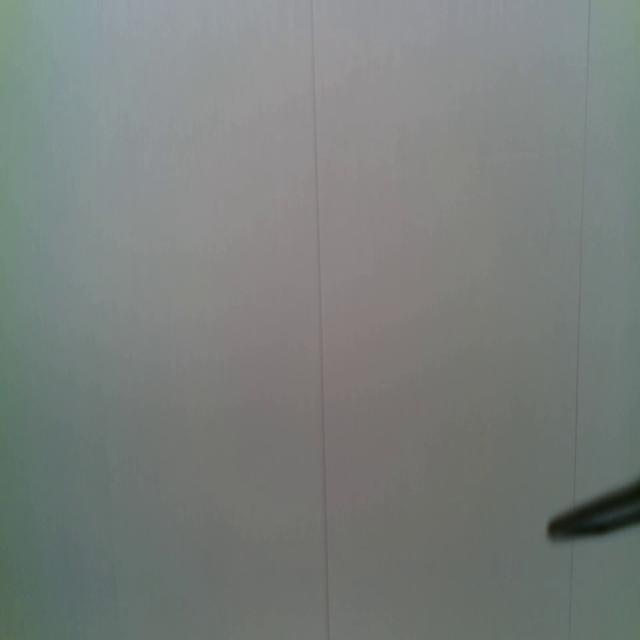crease: (308, 0, 332, 640), (572, 0, 594, 490), (568, 542, 576, 640)
